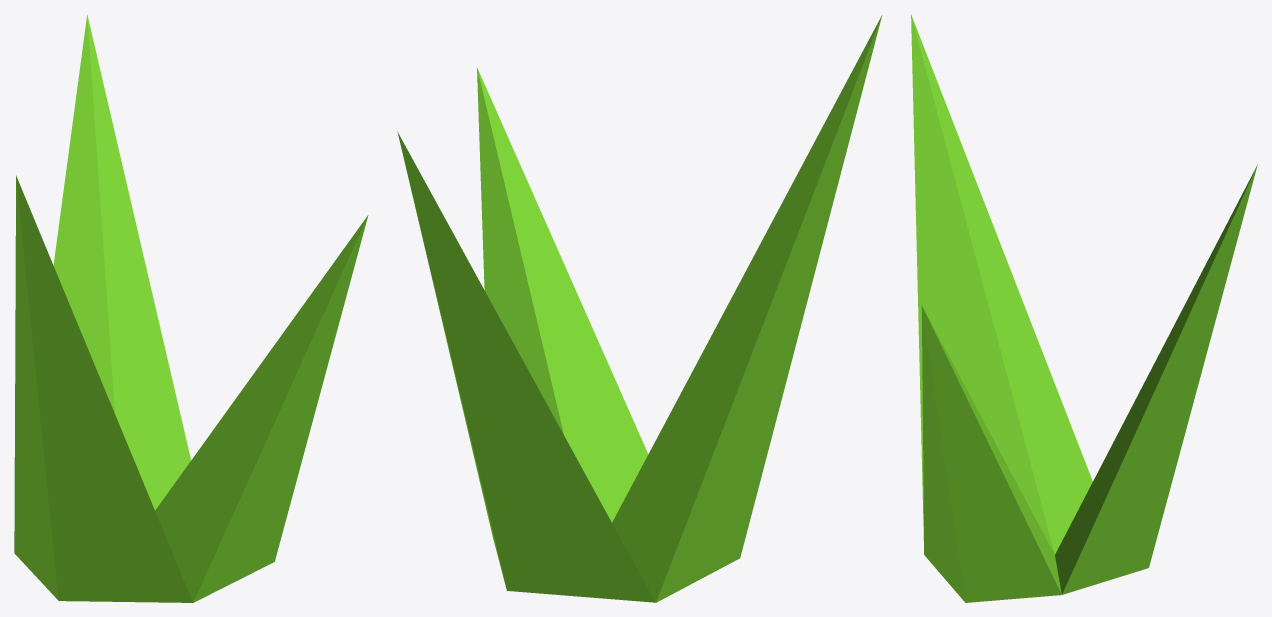
File: Grass3.glb
3 views of the same model, side by side, from view 1: azimuth 30°, elevation 25°; view 2: azimuth 150°, elevation 25°; view 3: azimuth 270°, elevation 25° (orthographic). The views are drawn at different scales.
Visible parts, largest first — view 1: grass4; view 2: grass4; view 3: grass4.
Boxes of the visible parts, x1,y1,x2,y2 form: grass4: (14, 15, 368, 602); grass4: (397, 15, 882, 602); grass4: (911, 14, 1257, 602).
Bounding box in the file's own units: 0.3558 × 0.4535 × 0.3131.
